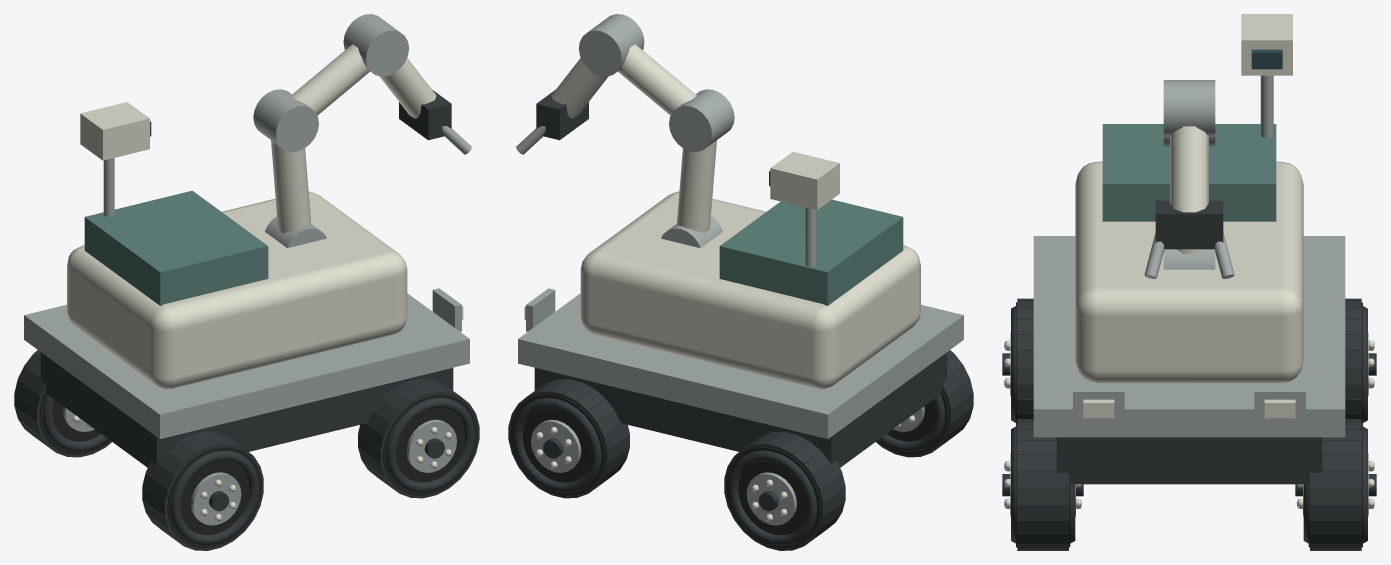
File: service-robot.glb
3 renders of one model, left to right at view 1: azimuth 30°, elevation 25°; view 2: azimuth 150°, elevation 25°; view 3: azimuth 270°, elevation 25°, orthographic. The views are drawn at different scales.
Parts seen in each view (by area): view 1: ivory, metal, dark, teal, tire; view 2: ivory, metal, dark, teal, tire; view 3: ivory, metal, dark, teal, tire, glass.
Boxes of the visible parts, x1,y1,x2,y2 form: ivory: [67, 44, 463, 521]; metal: [24, 14, 471, 525]; dark: [14, 89, 479, 550]; teal: [84, 190, 268, 305]; tire: [39, 389, 477, 548]; ivory: [524, 44, 920, 521]; metal: [516, 14, 963, 525]; dark: [508, 89, 973, 550]; teal: [719, 199, 903, 305]; tire: [510, 389, 948, 548]; ivory: [1004, 14, 1374, 508]; metal: [1010, 75, 1368, 516]; dark: [1002, 200, 1376, 550]; teal: [1102, 124, 1276, 221]; tire: [1016, 302, 1362, 547]; glass: [1251, 49, 1282, 69].
Bounding box in the file's own units: 1.86 × 2.02 × 1.44.
